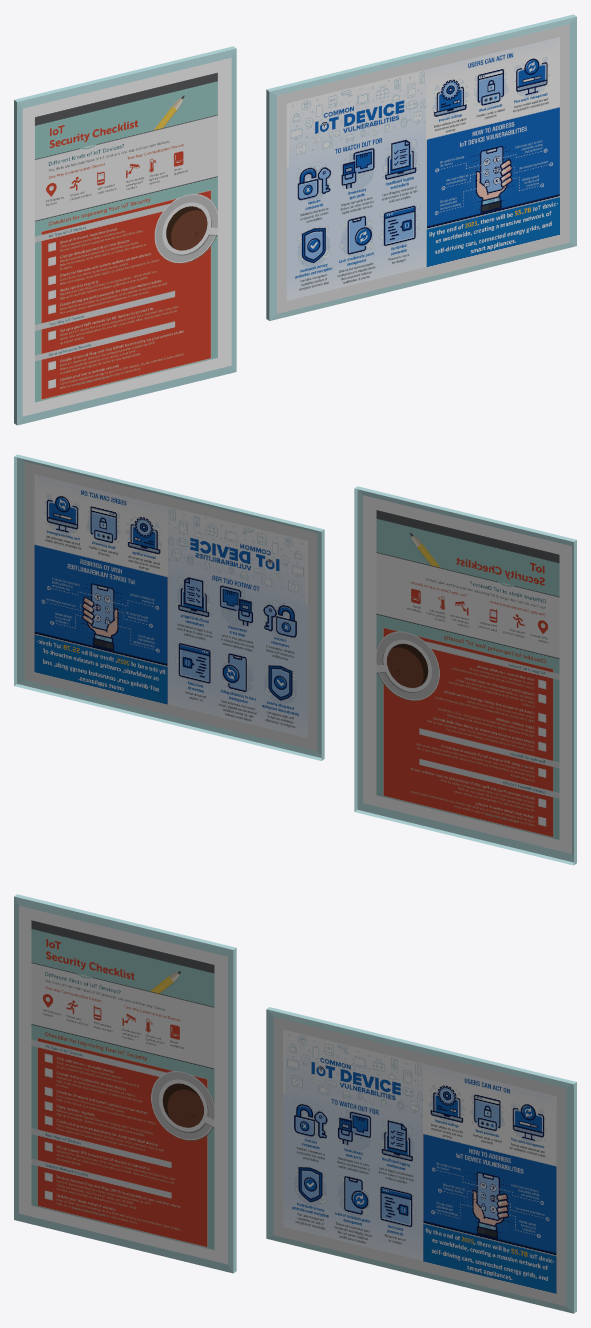
Rendered from Poster11.2.glb.
3 renders of one model, top to bottom at view 1: azimuth 30°, elevation 25°; view 2: azimuth 150°, elevation 25°; view 3: azimuth 330°, elevation 25°, orthographic.
Visible parts, largest first — view 1: Plane.003, Plane.001; view 2: Plane.003, Plane.001; view 3: Plane.003, Plane.001.
Boxes of the visible parts, x1,y1,x2,y2 form: Plane.003: (14,46,236,425); Plane.001: (266,14,576,320); Plane.003: (354,486,576,865); Plane.001: (14,454,324,760); Plane.003: (14,894,236,1273); Plane.001: (266,1007,576,1313).
Bounding box in the file's own units: 2.26 × 1.25 × 0.0231.
3 materials, 2 textured.
